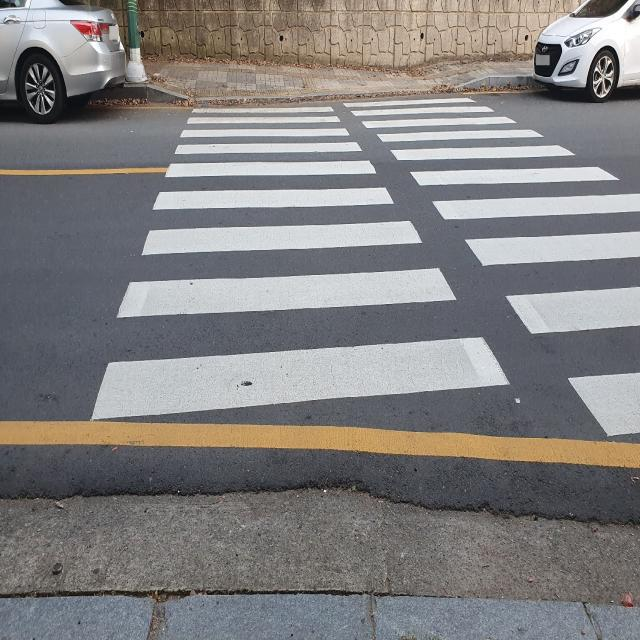횡단보도: (90, 96, 640, 439)
